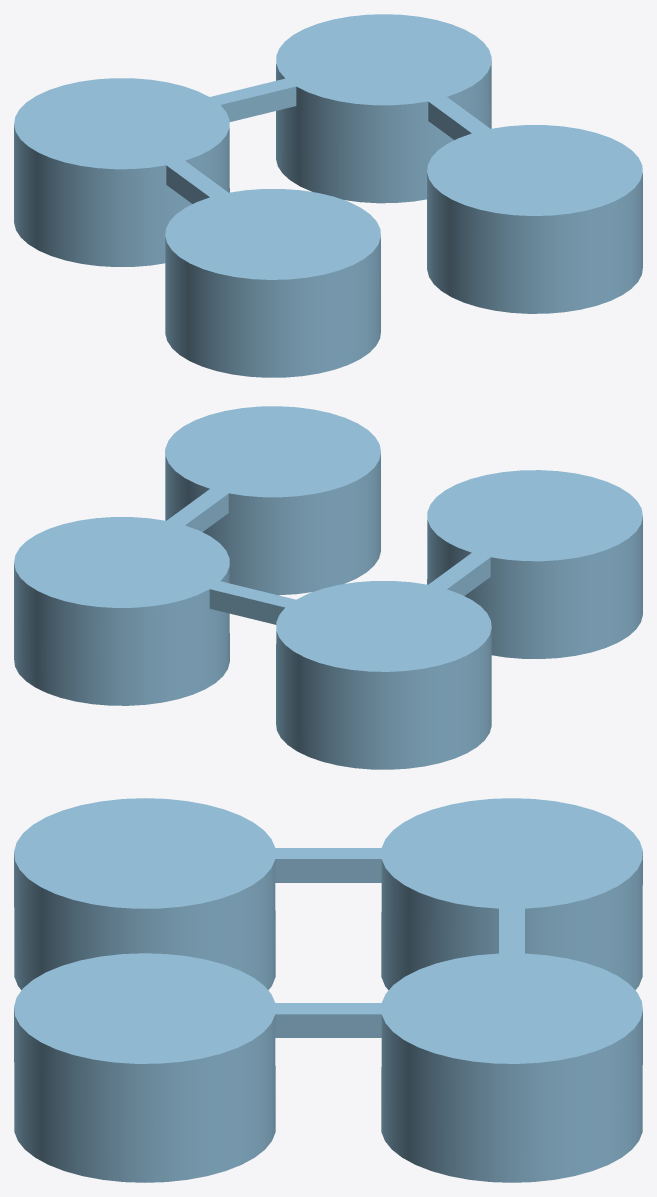
The model's file is wwt_objects.dae.
3 renders of one model, top to bottom at view 1: azimuth 30°, elevation 25°; view 2: azimuth 150°, elevation 25°; view 3: azimuth 270°, elevation 25°, orthographic. The views are drawn at different scales.
Visible parts, largest first — view 1: ID2; view 2: ID2; view 3: ID2.
Boxes of the visible parts, x1=… form: ID2: x1=14, y1=14, x2=642, y2=377; ID2: x1=14, y1=406, x2=642, y2=769; ID2: x1=14, y1=798, x2=642, y2=1182.
Size of the model in its own units: 24 by 23.99 by 5.
